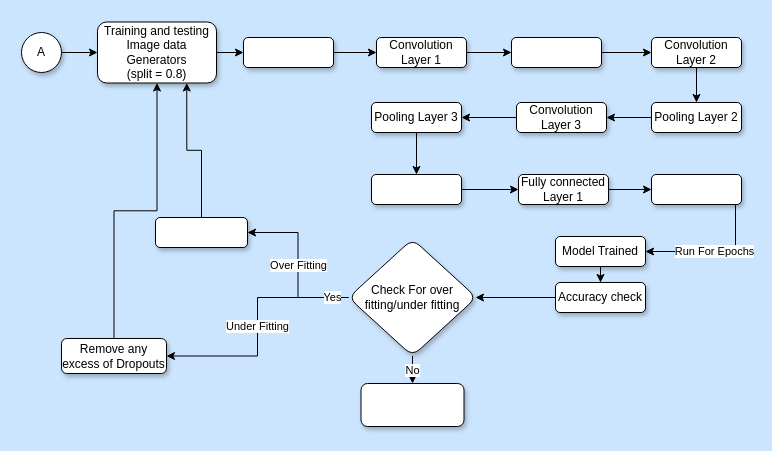
The diagram is 772 pixels wide and 451 high, and some of its shapes have lost their labels. The shapes that lost their labels are listed below. From the top down, each one's centre as x and y in pixels, then its label:
(x=289, y=53): Model Training 3 layer model
(x=557, y=53): Pooling Layer 1
(x=417, y=191): Flattening
(x=697, y=191): Fully connected Layer 2
(x=202, y=233): Add Dropout Regularization
(x=413, y=406): Proper Fit of the model. We get desired result.
